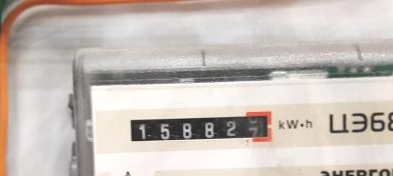1: (137, 122, 147, 140)
2: (225, 119, 236, 136)
5: (158, 122, 170, 139)
7: (247, 125, 258, 138)
8: (181, 121, 192, 138), (204, 121, 214, 137)
screen: (123, 108, 278, 147)
